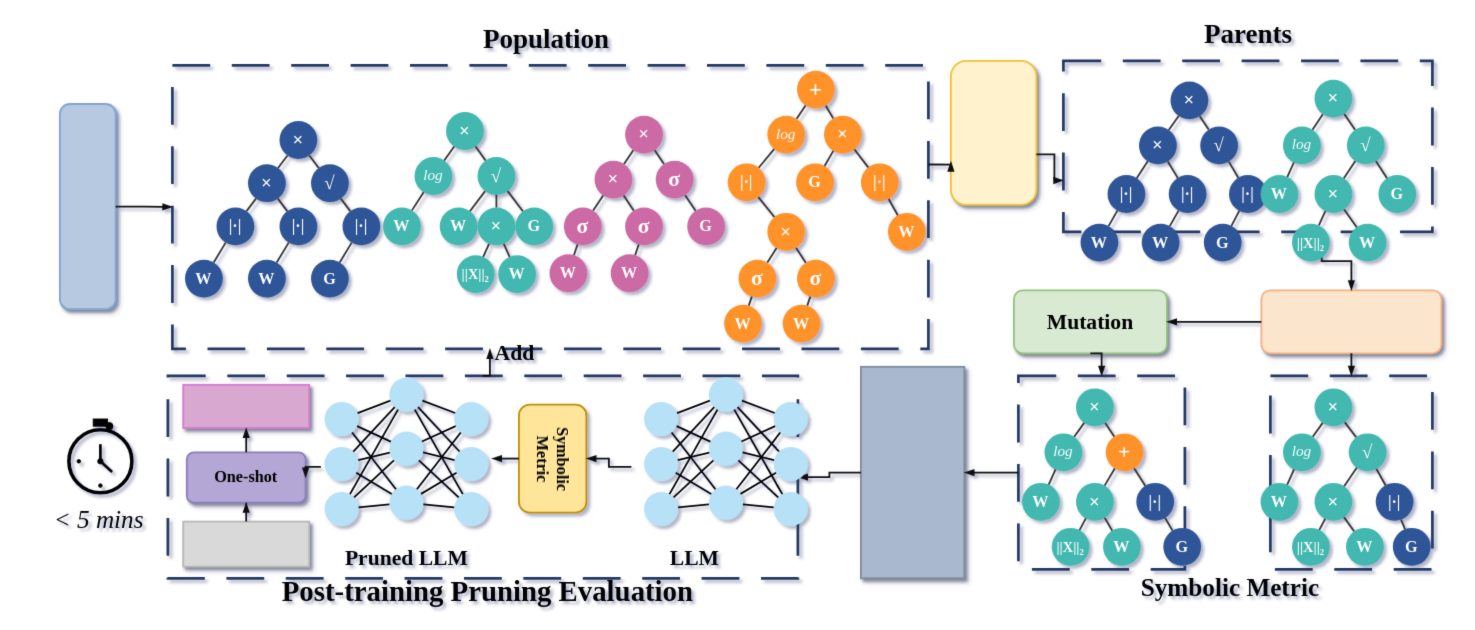
This 1475x630 diagram has some shape labels left out. The centre of each missing label's shape, as x and y in pixels:
"Cross Over" belongs at (1351,322).
"Opposing Operation Simplification" belongs at (913,473).
"Perplexity" belongs at (246,407).
"Symbolic Metric Initialization" belongs at (88,207).
"Tournament Selection" belongs at (994,134).
"Wikitext2" belongs at (246,545).
